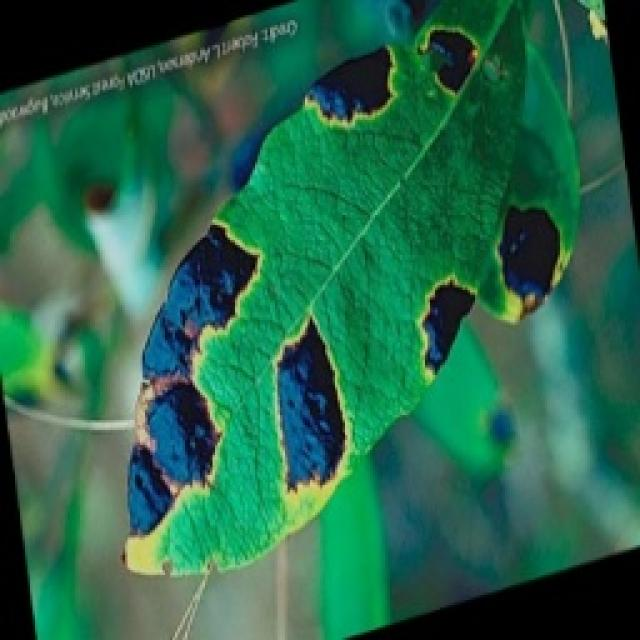Tar_Spot: (102, 27, 546, 527)
